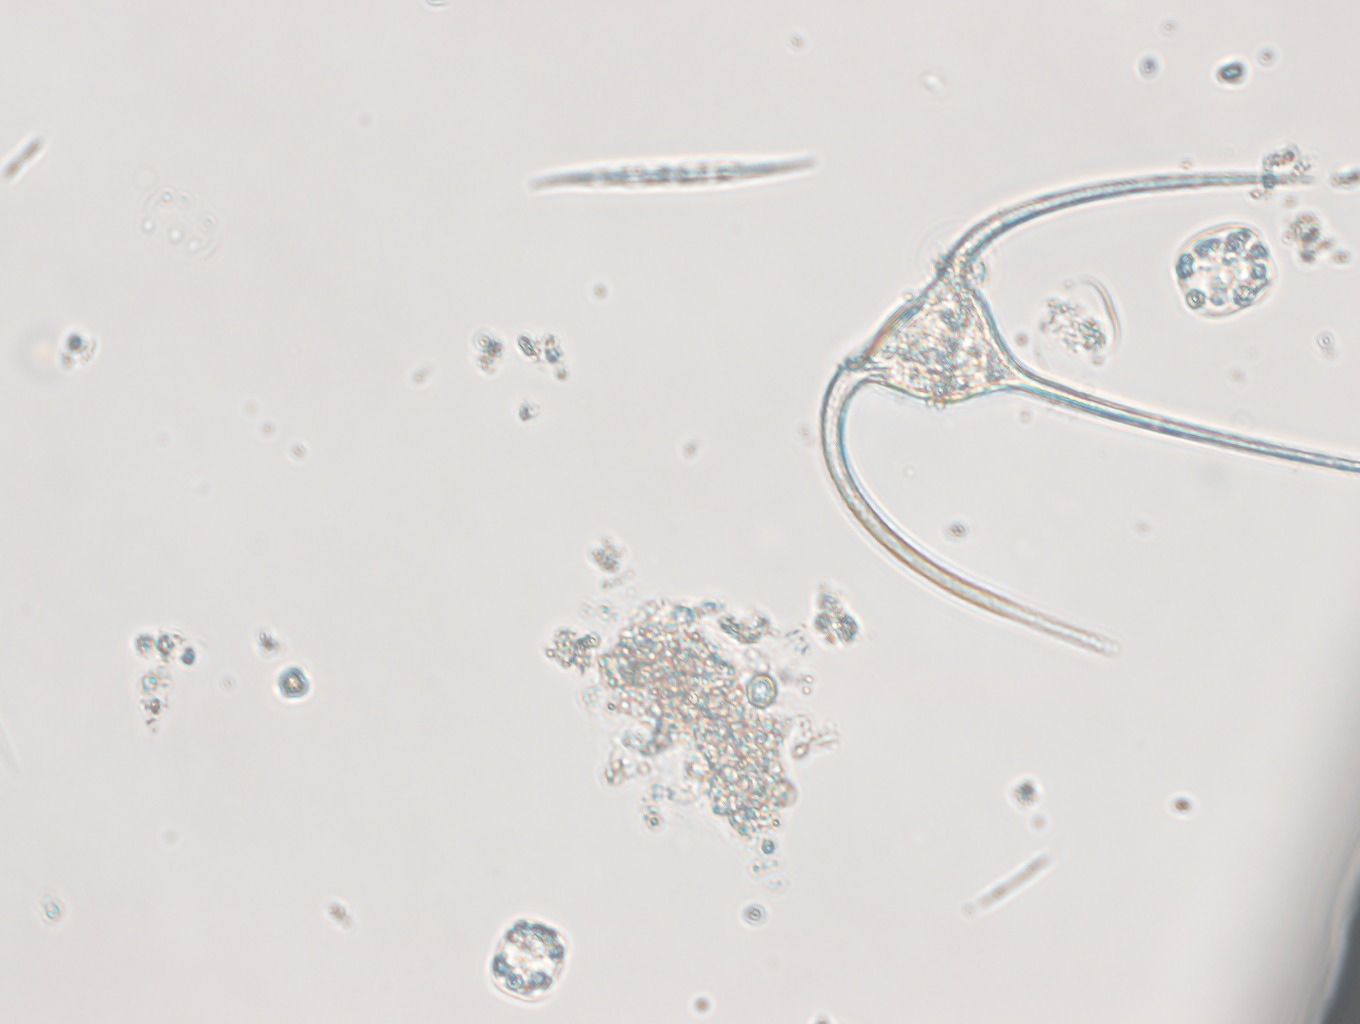ceratium trichoceros: (820, 168, 1360, 658)
pleurosigma pelagicum: (531, 153, 815, 193)
